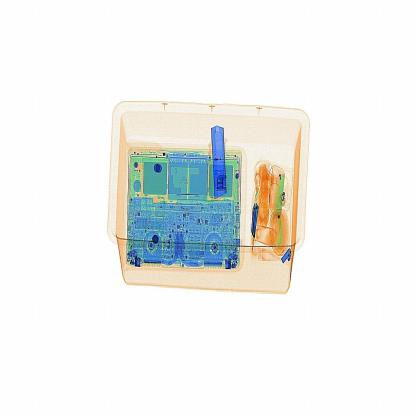pliers: (198, 117, 238, 207)
